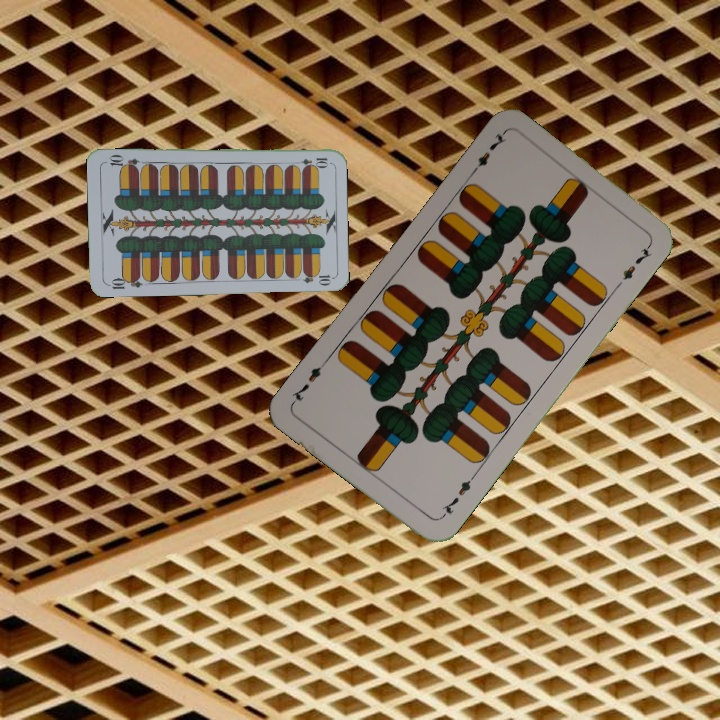E10: (104, 272, 144, 292), (290, 153, 330, 168)
E7: (465, 129, 508, 179), (437, 471, 478, 521)
